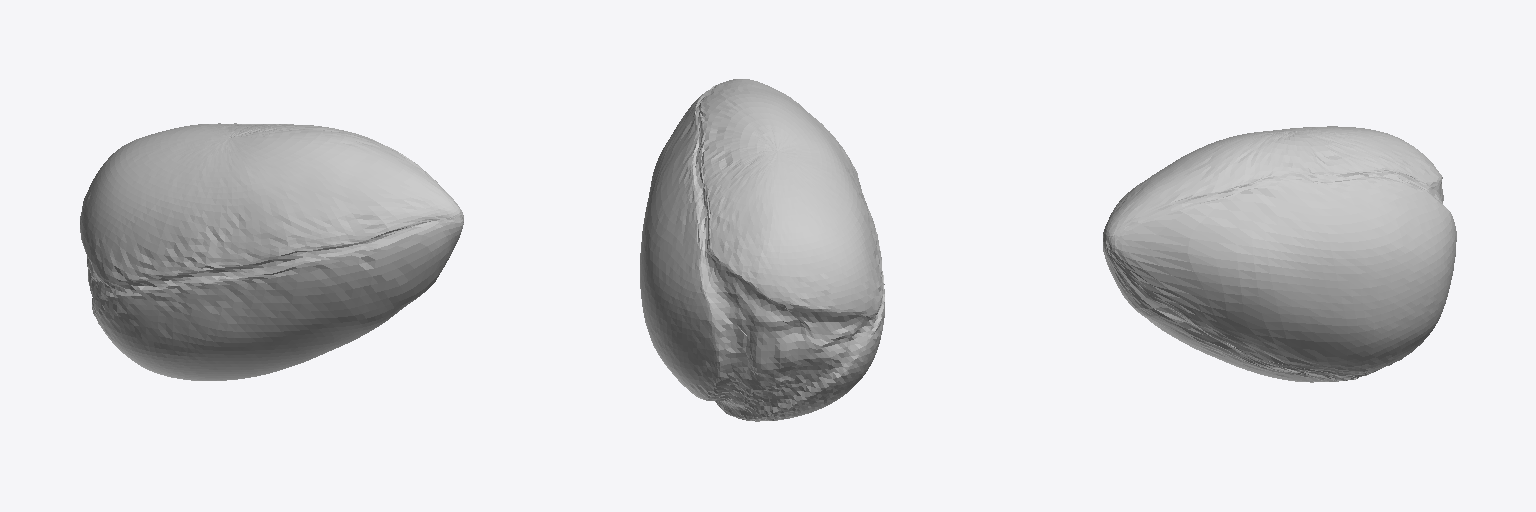
Rendered from ArganZJ-model.OBJ.
3 renders of one model, left to right at view 1: azimuth 30°, elevation 25°; view 2: azimuth 150°, elevation 25°; view 3: azimuth 270°, elevation 25°, orthographic.
Parts seen in each view (by area): view 1: Group14; view 2: Group14; view 3: Group14.
Boxes of the visible parts, x1=… form: Group14: x1=80, y1=123, x2=463, y2=380; Group14: x1=640, y1=79, x2=884, y2=421; Group14: x1=1103, y1=126, x2=1456, y2=382.
Size of the model in its own units: 3.02 by 2.81 by 3.53.